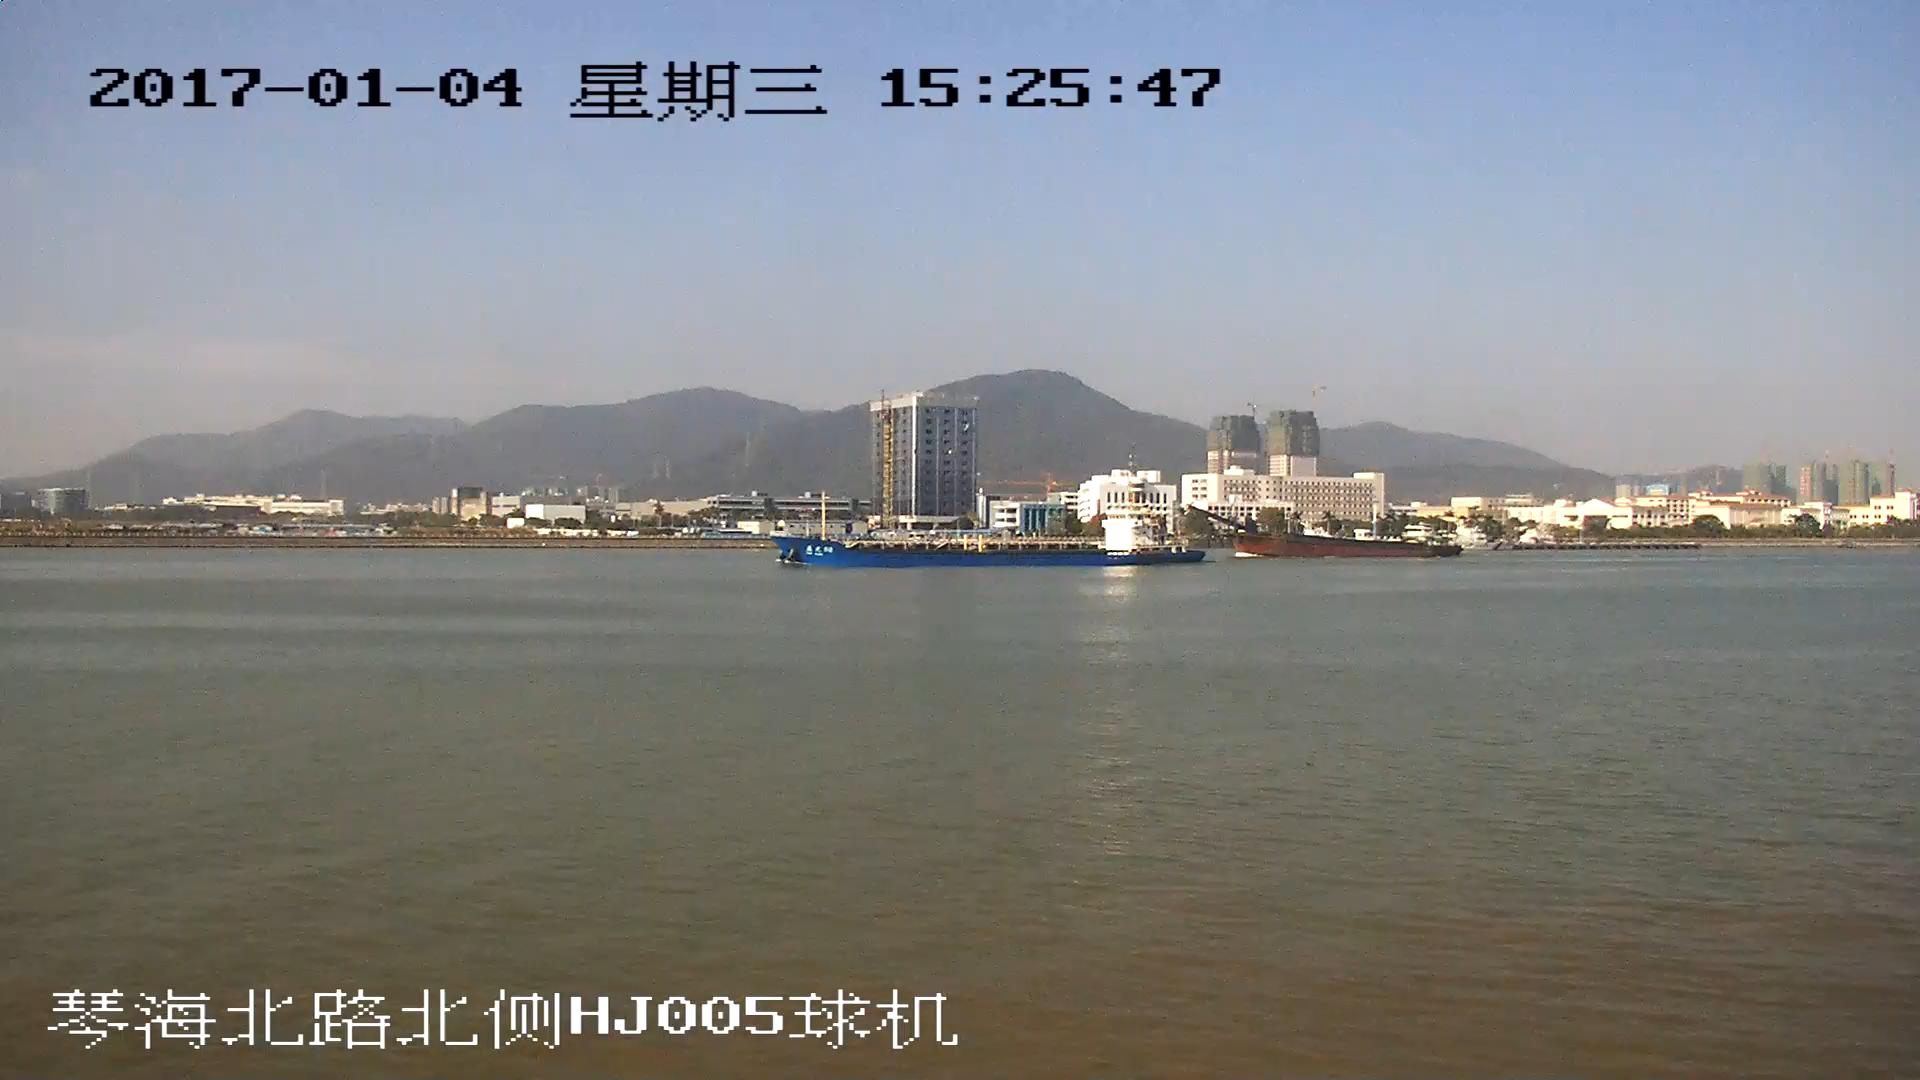bulk cargo carrier: (1188, 503, 1458, 560)
general cargo ship: (774, 490, 1178, 563)
